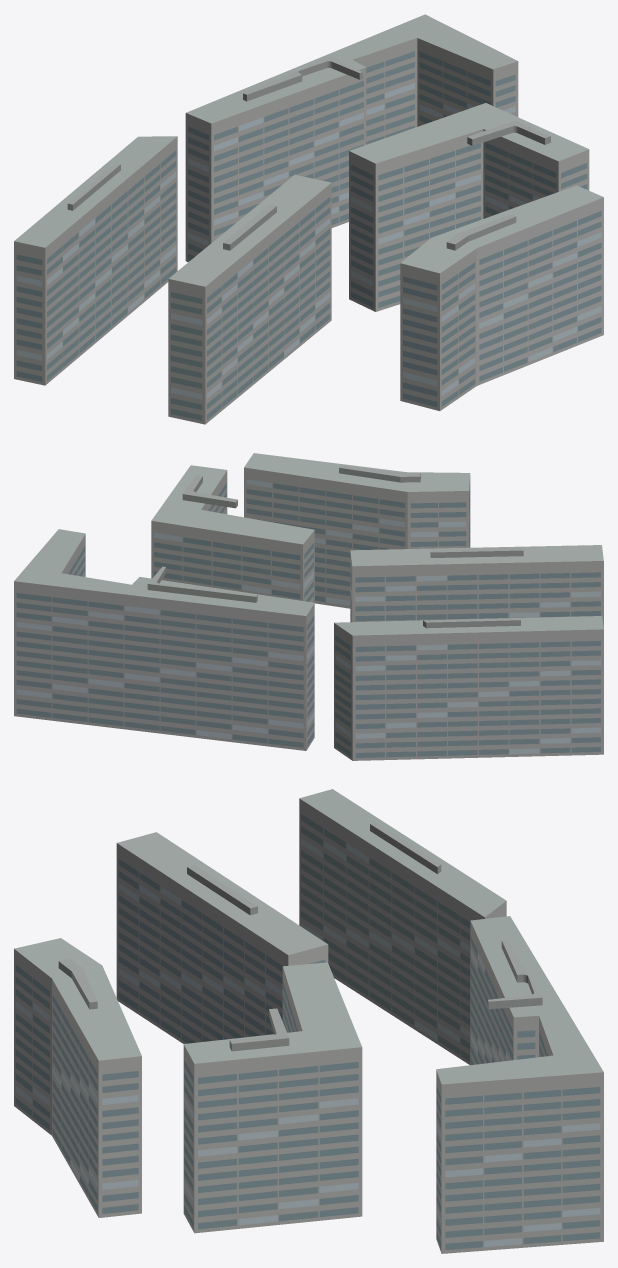
Rendered from apt-a11054301.glb.
The picture shows the model from 3 angles, top to bottom: view 1: azimuth 30°, elevation 25°; view 2: azimuth 150°, elevation 25°; view 3: azimuth 270°, elevation 25°; orthographic projection. The views are drawn at different scales.
Parts seen in each view (by area): view 1: apt-a11054301; view 2: apt-a11054301; view 3: apt-a11054301.
Boxes of the visible parts, <box> form: apt-a11054301: <box>14,14,603,424</box>; apt-a11054301: <box>14,453,603,760</box>; apt-a11054301: <box>14,789,603,1253</box>.
Size of the model in its own units: 166 by 44.62 by 135.
